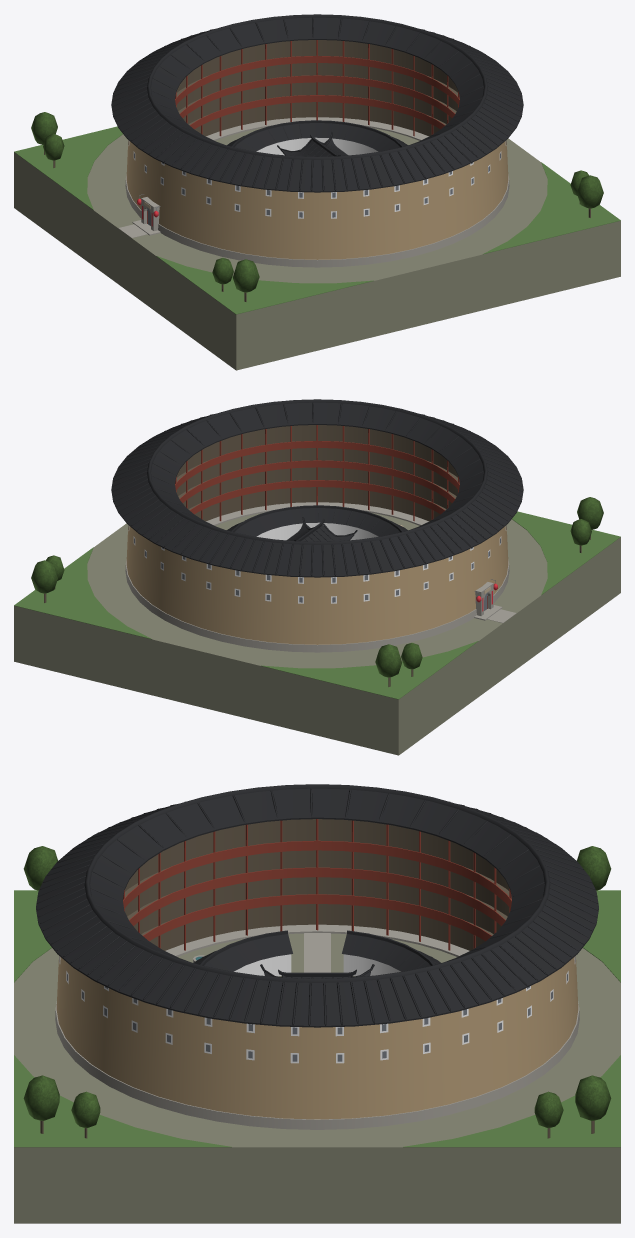
File: top-prebuilt.fbx
The picture shows the model from 3 angles, top to bottom: view 1: azimuth 30°, elevation 25°; view 2: azimuth 150°, elevation 25°; view 3: azimuth 270°, elevation 25°; orthographic projection. The views are drawn at different scales.
Parts seen in each view (by area): view 1: landmark-earthen_roundhouse/0/top-prebuilt; view 2: landmark-earthen_roundhouse/0/top-prebuilt; view 3: landmark-earthen_roundhouse/0/top-prebuilt.
Boxes of the visible parts, x1=… form: landmark-earthen_roundhouse/0/top-prebuilt: x1=14, y1=14, x2=620, y2=370; landmark-earthen_roundhouse/0/top-prebuilt: x1=14, y1=399, x2=620, y2=755; landmark-earthen_roundhouse/0/top-prebuilt: x1=14, y1=784, x2=620, y2=1223.
Size of the model in its own units: 72 by 28 by 72.
